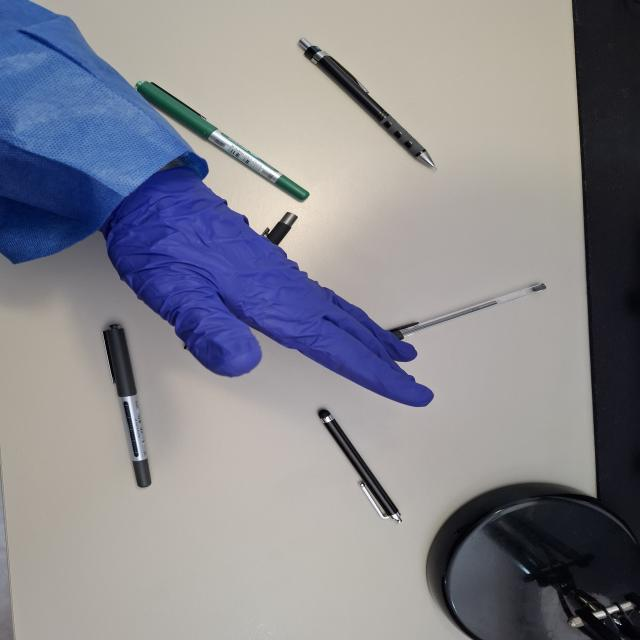glove_on: (104, 161, 436, 409)
